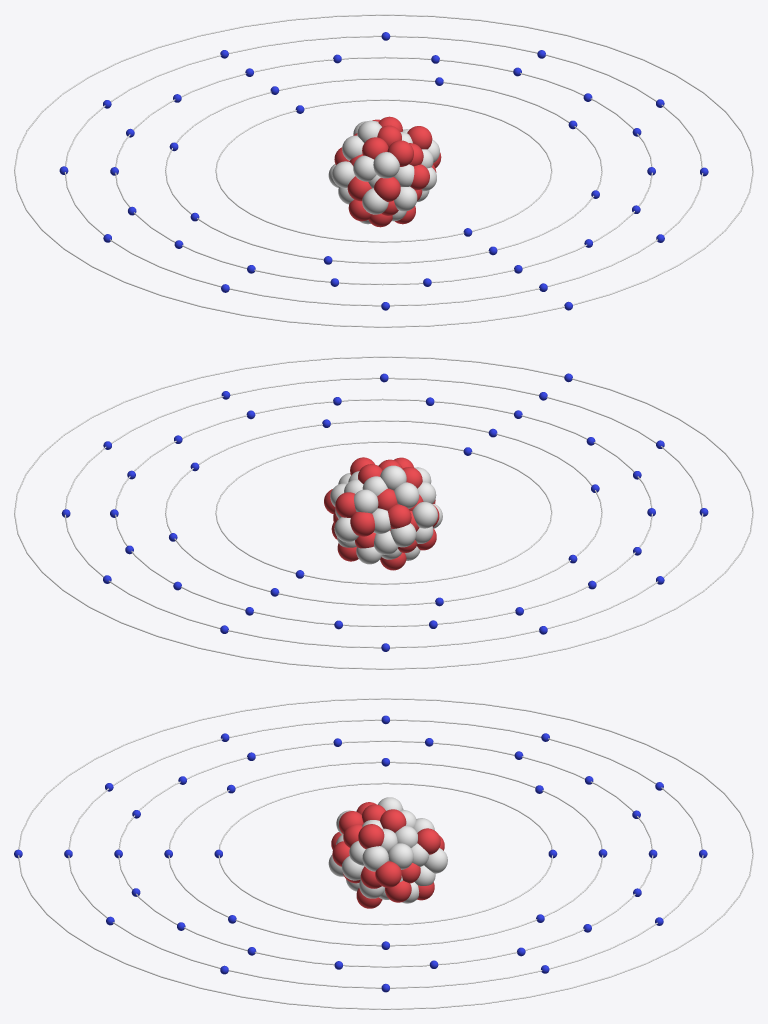
The model's file is Niobium.glb.
3 views of the same model, one above another, from view 1: azimuth 30°, elevation 25°; view 2: azimuth 150°, elevation 25°; view 3: azimuth 270°, elevation 25° (orthographic).
Parts seen in each view (by area): view 1: O-Schale, N-Schale, M-Schale, L-Schale, K-Schale, Neutron 45; view 2: O-Schale, N-Schale, M-Schale, L-Schale, K-Schale, Neutron 44, Proton 40; view 3: O-Schale, N-Schale, M-Schale, L-Schale, K-Schale, Proton 38, Proton 36.
Boxes of the visible parts, x1,y1,x2,y2 form: O-Schale: (14, 14, 753, 327); N-Schale: (64, 35, 703, 306); M-Schale: (115, 56, 652, 285); L-Schale: (165, 78, 602, 263); K-Schale: (215, 99, 552, 242); Neutron 45: (373, 152, 399, 178); O-Schale: (14, 356, 753, 669); N-Schale: (64, 377, 703, 648); M-Schale: (115, 398, 652, 627); L-Schale: (165, 420, 602, 605); K-Schale: (215, 441, 552, 584); Neutron 44: (412, 502, 437, 528); Proton 40: (350, 512, 374, 536); O-Schale: (18, 698, 753, 1009); N-Schale: (68, 719, 703, 988); M-Schale: (118, 740, 653, 967); L-Schale: (168, 761, 603, 946); K-Schale: (218, 782, 552, 925); Proton 38: (375, 861, 401, 887); Proton 36: (358, 824, 384, 849).
Bounding box in the file's own units: 22.04 × 3.29 × 22.15.
